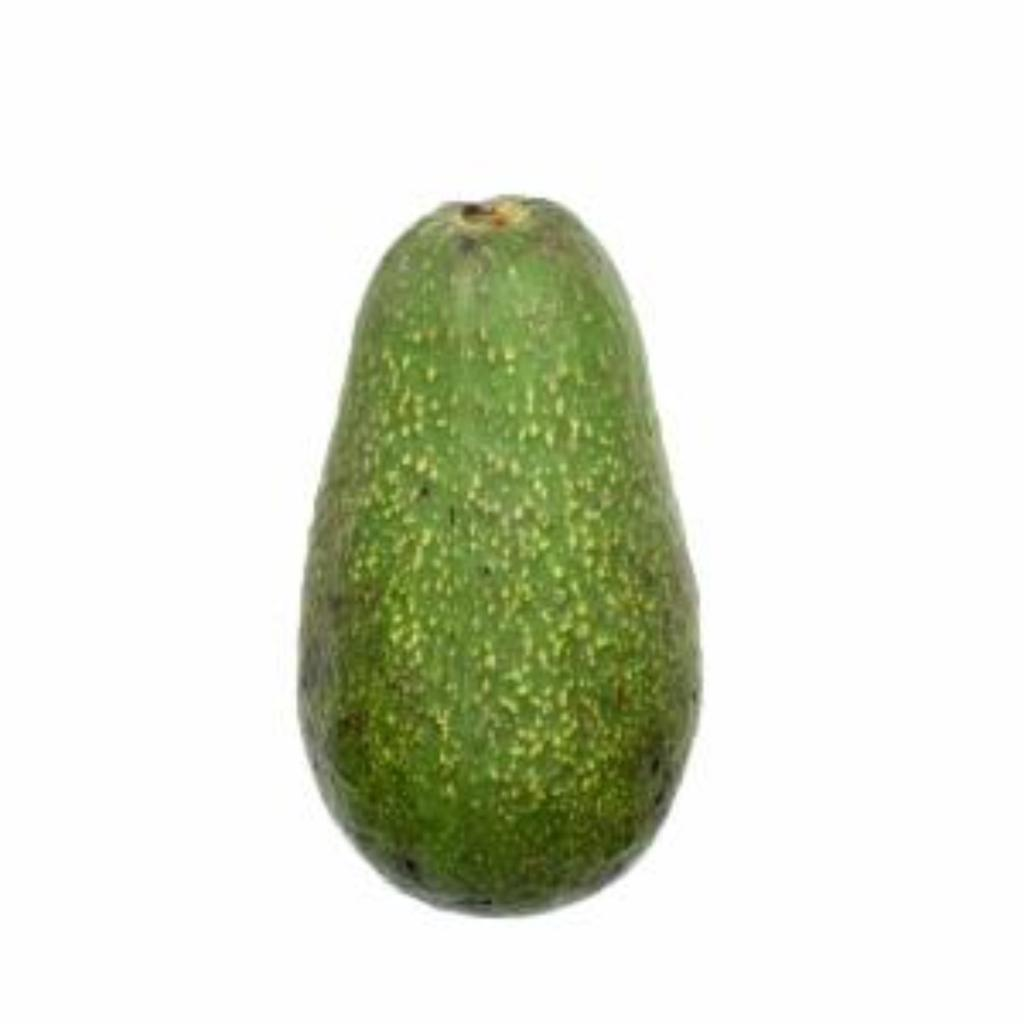cercospora_spot: (237, 168, 735, 938)
